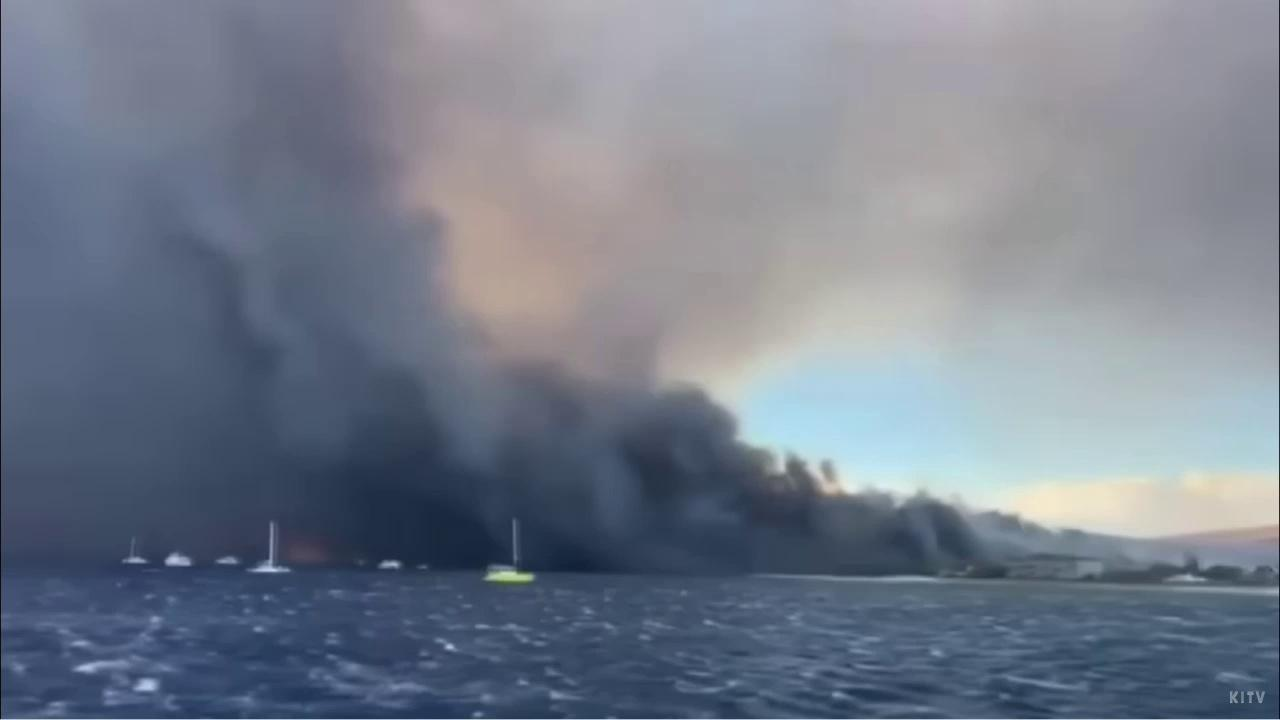smoke: (0, 0, 1280, 575)
